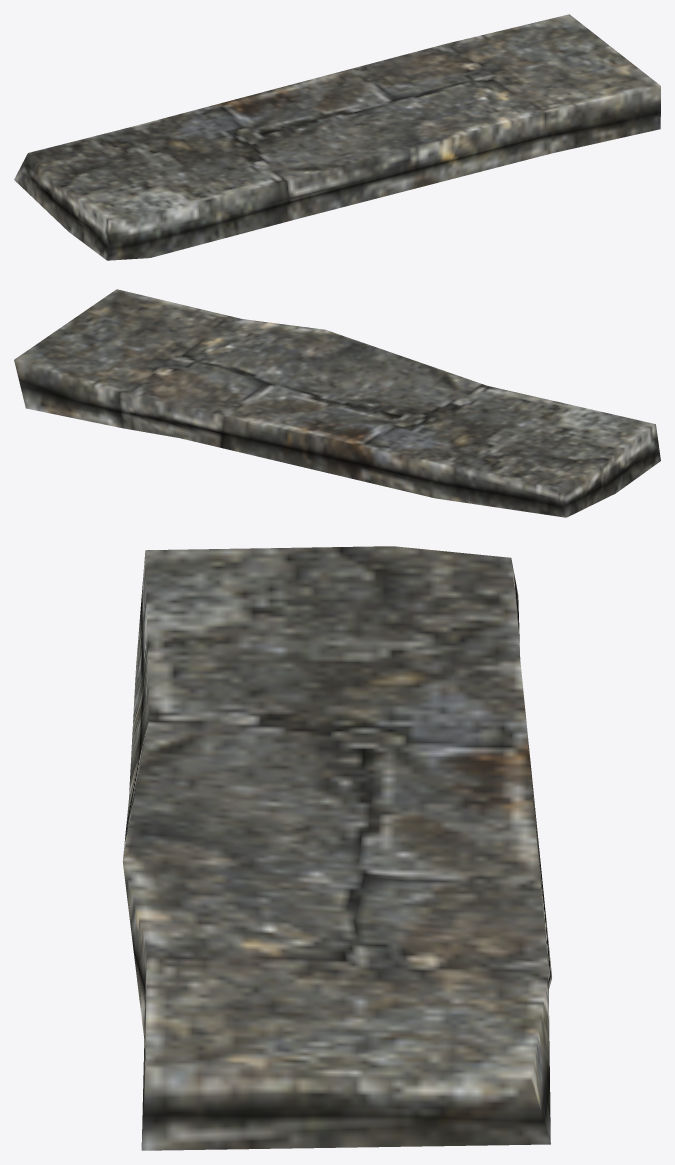
The model's file is Stair2_LOD1.fbx.
The picture shows the model from 3 angles, top to bottom: view 1: azimuth 30°, elevation 25°; view 2: azimuth 150°, elevation 25°; view 3: azimuth 270°, elevation 25°; orthographic projection. The views are drawn at different scales.
Visible parts, largest first — view 1: polySurface58; view 2: polySurface58; view 3: polySurface58.
Boxes of the visible parts, x1,y1,x2,y2 form: polySurface58: (14, 14, 660, 260); polySurface58: (14, 289, 660, 517); polySurface58: (122, 546, 551, 1150).
Size of the model in its own units: 8.84 by 0.7535 by 2.99.
